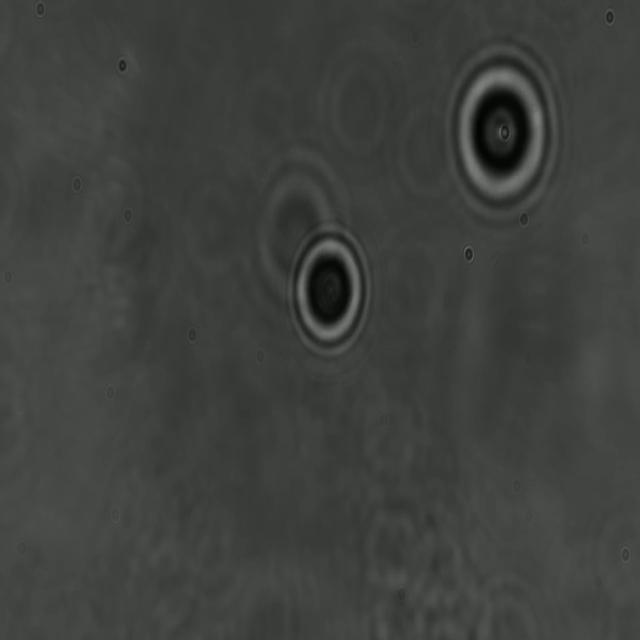DCELL: (282, 219, 378, 363)
LCELL: (440, 28, 566, 232)
